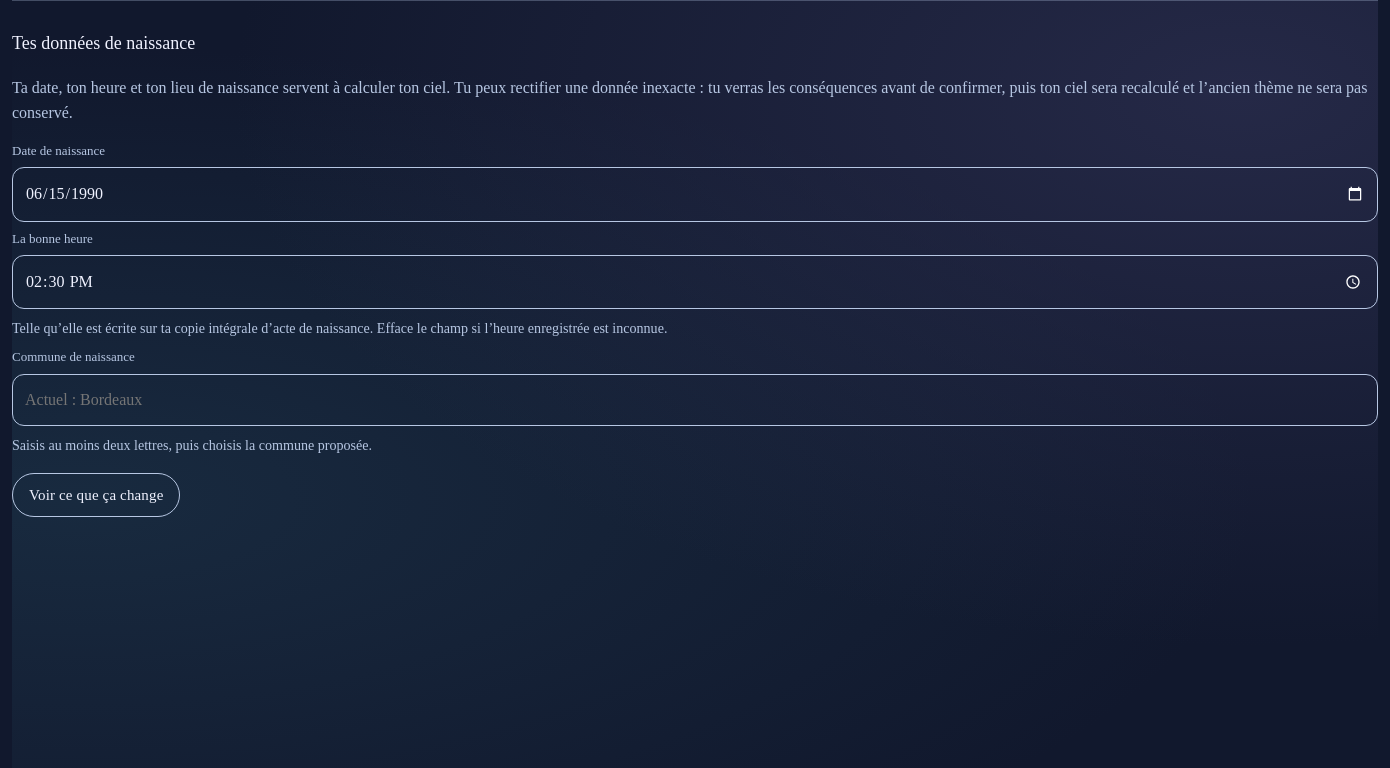
Test case: [6.5b] On ne peut pas écrire sans avoir vu › refuse un lieu tapé mais non choisi avant tout appel serveur d'aperçu
This screenshot has width=1390, height=768.
Type "Paris libre" into the dropdown labelled "Commune de naissance".
click(695, 400); type("Paris libre")  # box [12,374,1378,426]
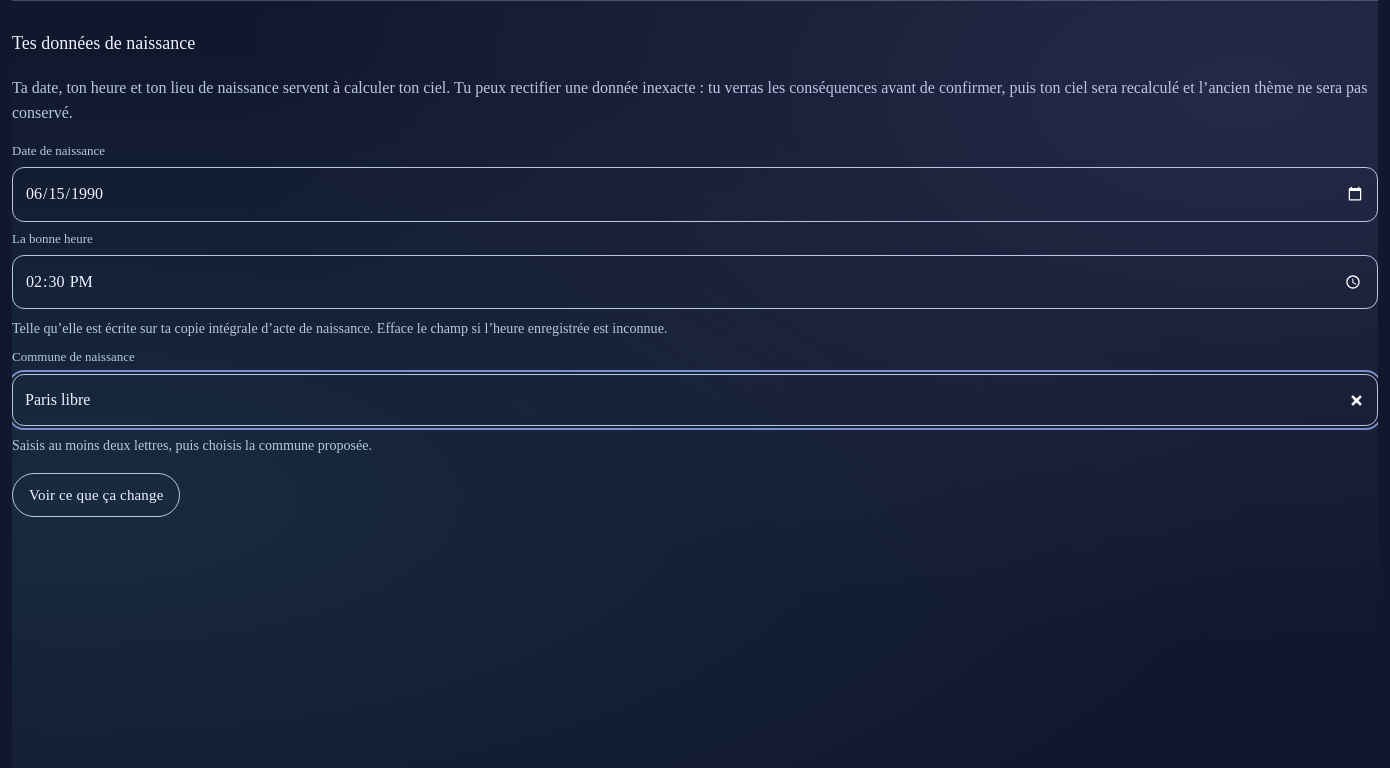
Click the button "Voir ce que ça change".
click(96, 495)  # box [12,473,180,517]
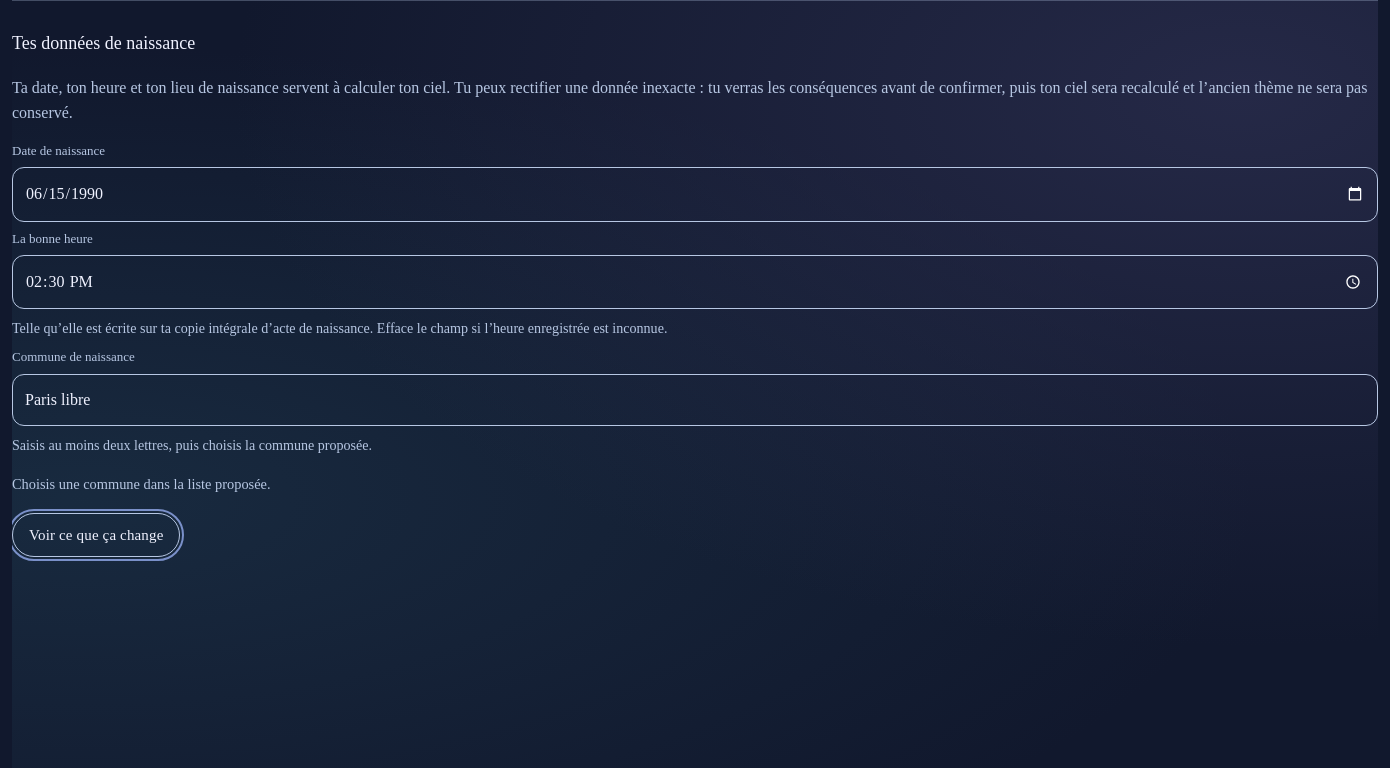
Now the message reads "Choisis une commune dans la liste proposée.", box [12,476,271,492]
